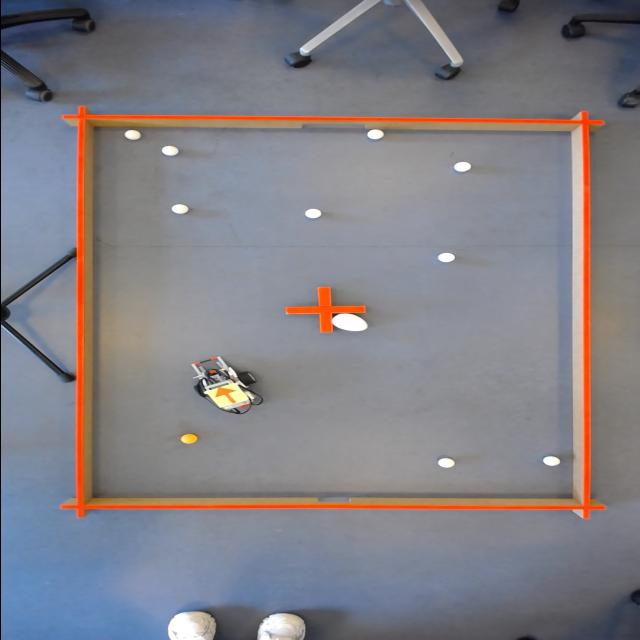cross: (282, 285, 367, 334)
egg: (330, 312, 370, 332)
orange_ball: (177, 433, 201, 445)
robot: (202, 382, 250, 410)
white_ball: (168, 202, 192, 216), (119, 128, 143, 142), (432, 250, 456, 264), (363, 128, 389, 140), (156, 145, 182, 157), (540, 454, 564, 467), (434, 458, 458, 470), (299, 208, 324, 219), (451, 162, 473, 174)
